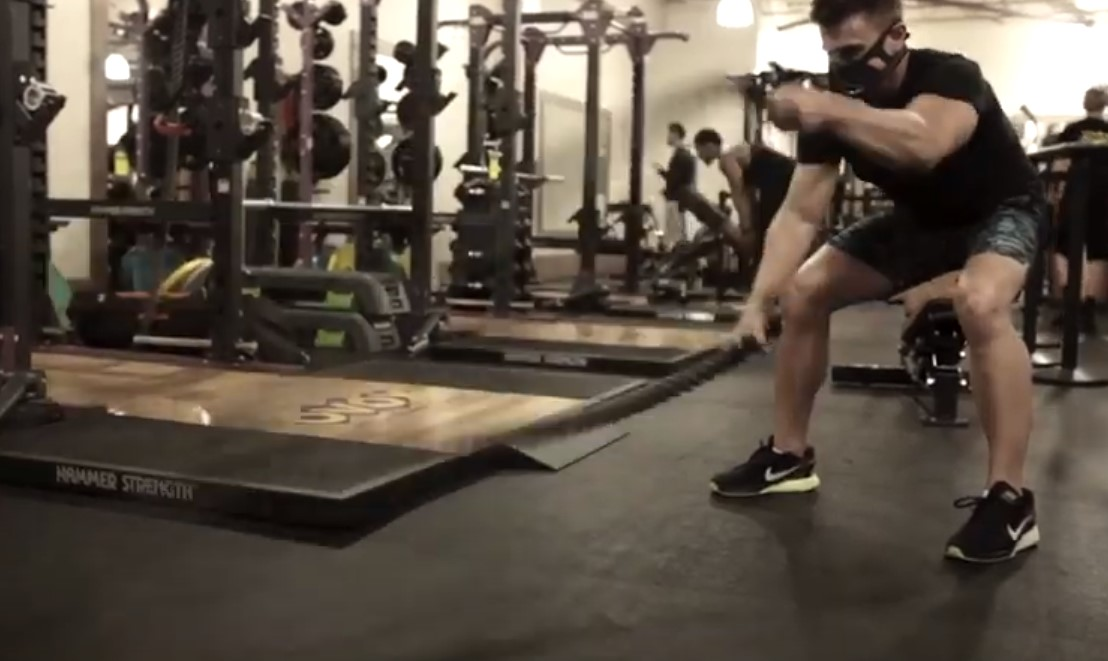face_with_mask: (811, 0, 911, 105)
